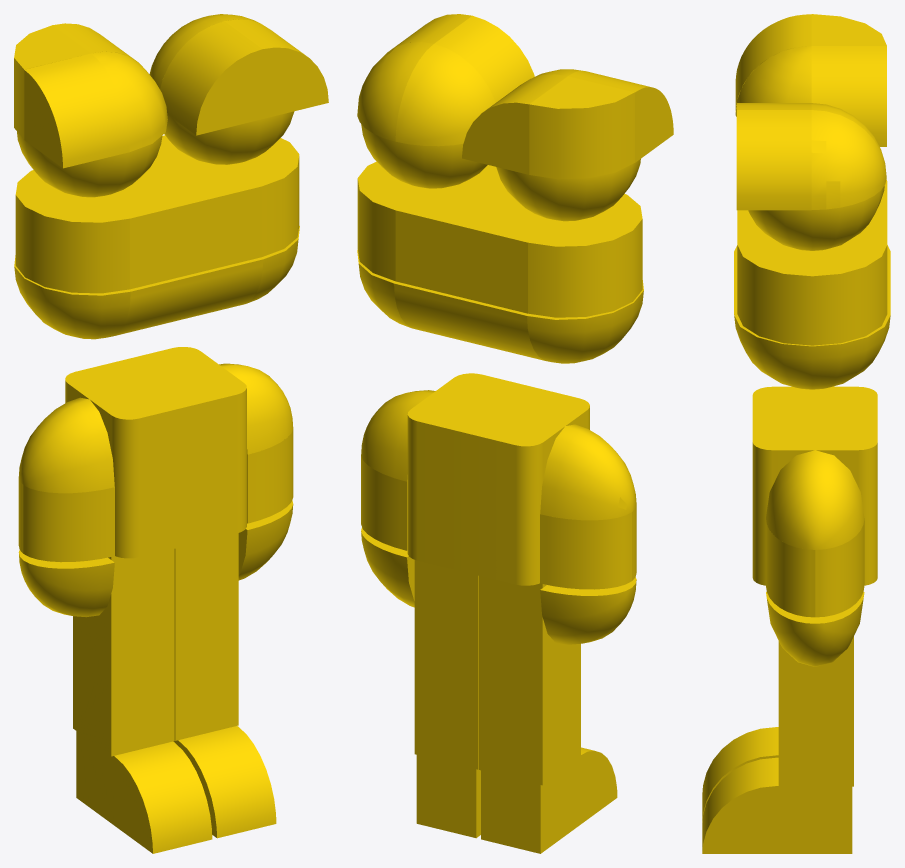
Rendered from FullBodyApose.glb.
3 views of the same model, side by side, from view 1: azimuth 30°, elevation 25°; view 2: azimuth 150°, elevation 25°; view 3: azimuth 270°, elevation 25° (orthographic). The views are drawn at different scales.
Parts seen in each view (by area): view 1: ROW8_A, ROW8_B, ROW9_A, ROW1_front_A, ROW3_front_A, ROW1_front_C, ROW6_front_A, ROW3_front_C, ROW3_front_B, ROW9_B, ROW5_front_B, ROW5_front_C (+26 smaller); view 2: ROW8_A, ROW8_B, ROW1_back_A, ROW3_back_A, ROW9_A, ROW6_back_A, ROW3_back_C, ROW3_back_B, ROW1_back_C, ROW5_back_B, ROW5_back_C, ROW6_back_B (+26 smaller); view 3: ROW9_B, ROW8_B, ROW1_front_D, ROW3_front_D, ROW3_back_D, ROW1_back_D, ROW1_back_B, ROW5_front_D, ROW5_back_D, ROW6_front_B, ROW6_back_B, ROW5_front_E (+19 smaller).
Boxes of the visible parts, <box> form: ROW8_A: <box>73,548,174,756</box>; ROW8_B: <box>174,533,238,740</box>; ROW9_A: <box>76,731,212,853</box>; ROW1_front_A: <box>24,53,129,168</box>; ROW3_front_A: <box>25,195,129,293</box>; ROW1_front_C: <box>160,21,262,135</box>; ROW6_front_A: <box>90,383,187,488</box>; ROW3_front_C: <box>158,162,261,272</box>; ROW3_front_B: <box>100,174,196,289</box>; ROW9_B: <box>173,726,276,838</box>; ROW5_front_B: <box>23,485,114,562</box>; ROW5_front_C: <box>23,399,114,493</box>; ROW8_A: <box>479,575,580,785</box>; ROW8_B: <box>414,560,478,769</box>; ROW1_back_A: <box>529,76,634,179</box>; ROW3_back_A: <box>528,219,632,317</box>; ROW9_A: <box>481,747,617,853</box>; ROW6_back_A: <box>466,410,564,515</box>; ROW3_back_C: <box>395,186,498,297</box>; ROW3_back_B: <box>461,198,557,313</box>; ROW1_back_C: <box>395,44,495,146</box>; ROW5_back_B: <box>540,512,631,589</box>; ROW5_back_C: <box>540,426,631,520</box>; ROW6_back_B: <box>407,393,498,502</box>; ROW9_B: <box>702,757,852,853</box>; ROW8_B: <box>778,636,853,786</box>; ROW1_front_D: <box>736,110,811,210</box>; ROW3_front_D: <box>737,244,812,345</box>; ROW3_back_D: <box>812,244,887,345</box>; ROW1_back_D: <box>811,110,886,209</box>; ROW1_back_B: <box>811,46,886,146</box>; ROW5_front_D: <box>766,450,815,549</box>; ROW5_back_D: <box>815,450,864,549</box>; ROW6_front_B: <box>752,418,815,517</box>; ROW6_back_B: <box>815,418,877,517</box>; ROW5_front_E: <box>766,520,815,617</box>.
Bounding box in the file's own units: 4.02 × 10.97 × 2.51.
